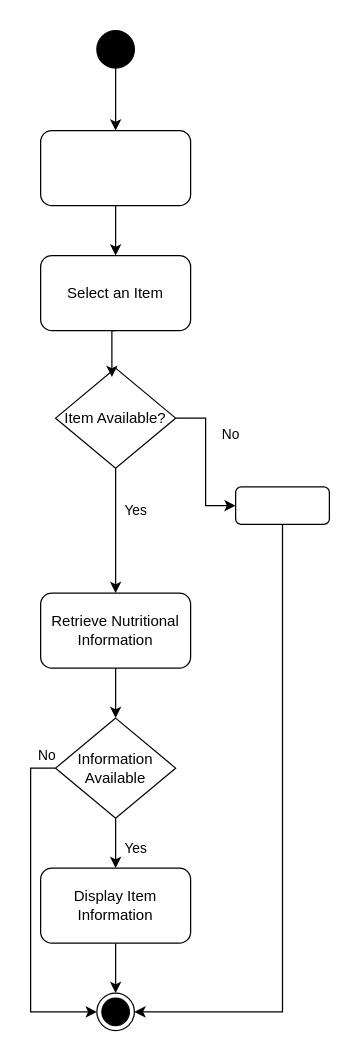
Image size: 351x1053. Some labels were removed from this diagram. The centre of each missing label's shape, as x and y in pixels:
Browse Grocery Items: [115,167]
Display Item Not Found: [281,505]
